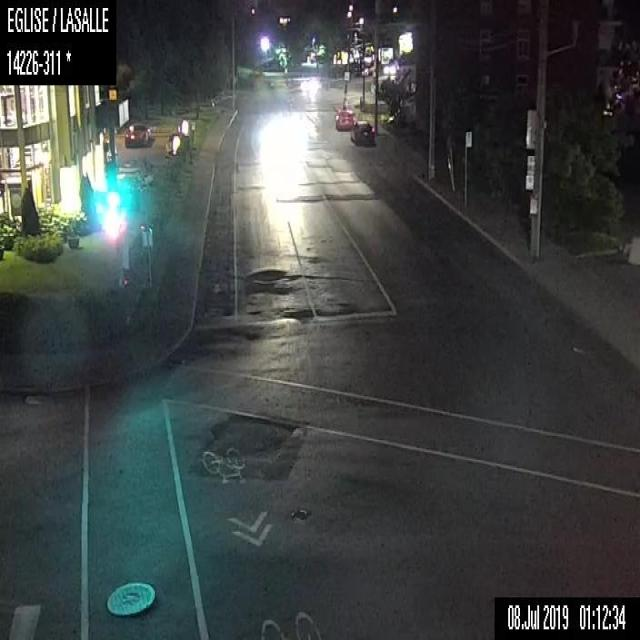vehicle: (121, 121, 151, 147), (348, 120, 374, 142), (334, 108, 354, 130), (382, 60, 398, 74)
